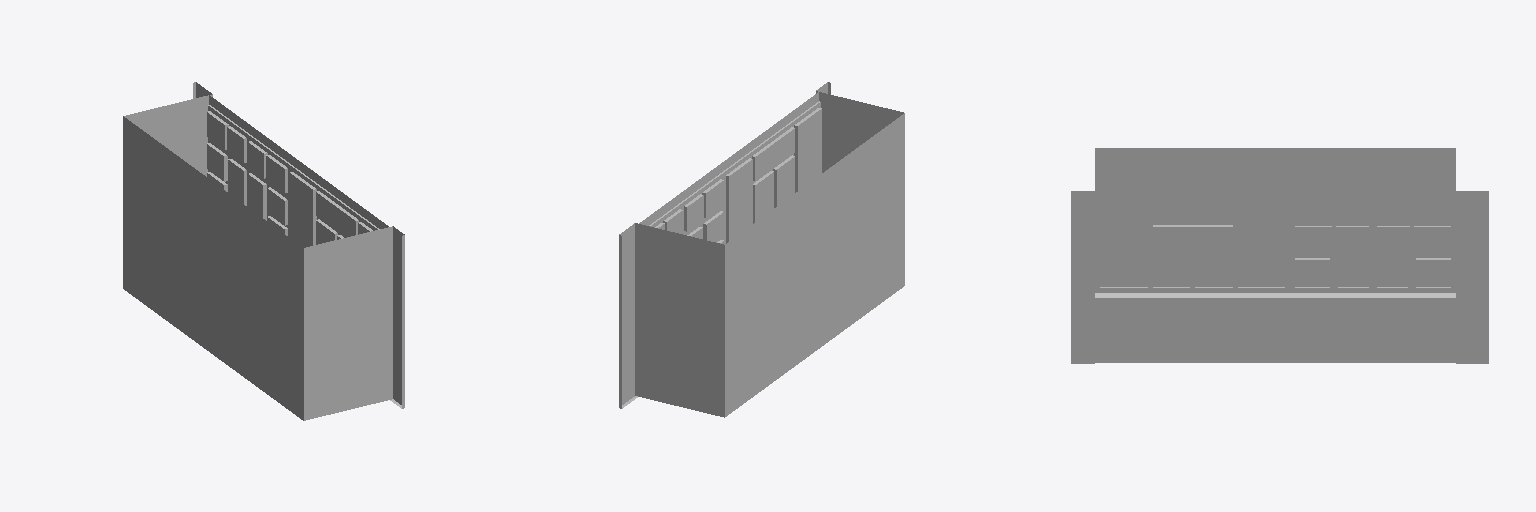
The model's file is balcony.obj.
3 renders of one model, left to right at view 1: azimuth 30°, elevation 25°; view 2: azimuth 150°, elevation 25°; view 3: azimuth 270°, elevation 25°, orthographic.
Visible parts, largest first — view 1: Plane046_Mesh.085; view 2: Plane046_Mesh.085; view 3: Plane046_Mesh.085.
Boxes of the visible parts, x1=… form: Plane046_Mesh.085: x1=123, y1=82, x2=404, y2=420; Plane046_Mesh.085: x1=619, y1=82, x2=904, y2=417; Plane046_Mesh.085: x1=1071, y1=148, x2=1488, y2=363.
Size of the model in its own units: 1.3 by 2.4 by 5.25.